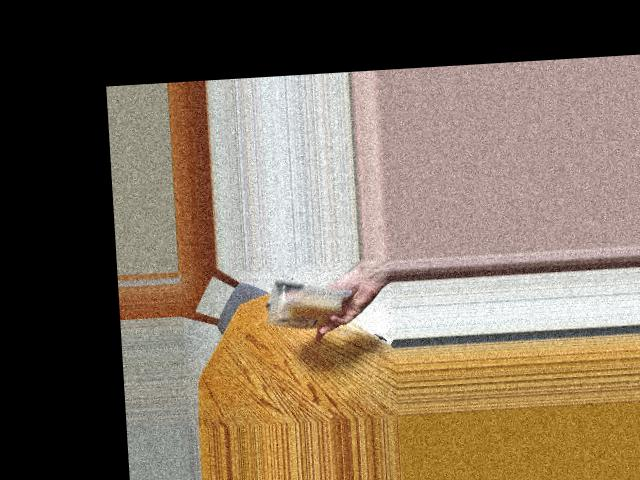cheese: (270, 282, 339, 329)
